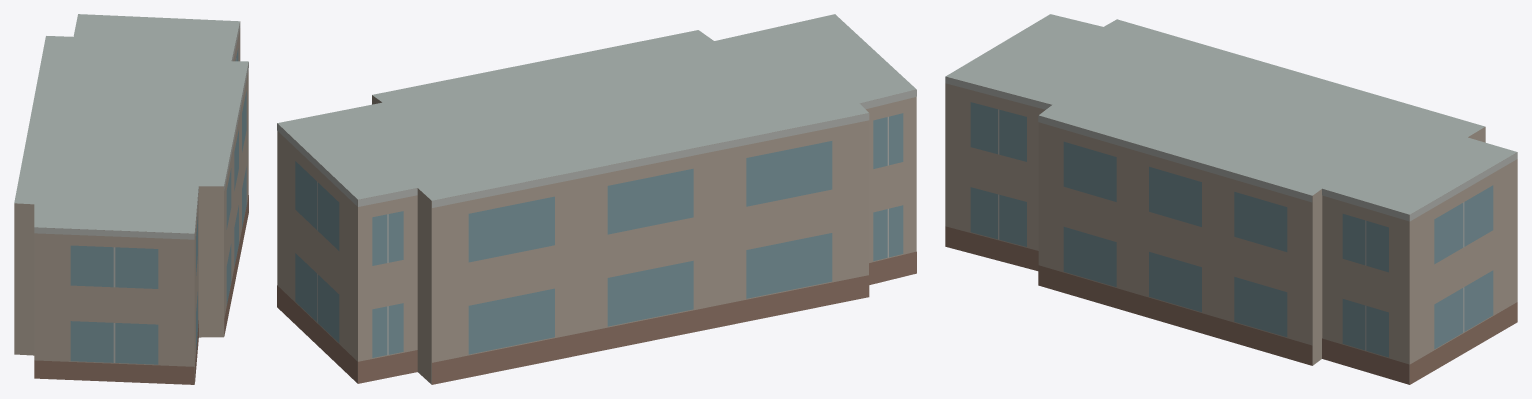
File: survey-upis-32609178.glb
3 renders of one model, left to right at view 1: azimuth 30°, elevation 25°; view 2: azimuth 150°, elevation 25°; view 3: azimuth 270°, elevation 25°, orthographic. The views are drawn at different scales.
Visible parts, largest first — view 1: survey-upis-32609178.tmp; view 2: survey-upis-32609178.tmp; view 3: survey-upis-32609178.tmp.
Boxes of the visible parts, box(x1,y1,x2,y2) form: survey-upis-32609178.tmp: box(14, 14, 248, 384); survey-upis-32609178.tmp: box(277, 14, 916, 384); survey-upis-32609178.tmp: box(945, 14, 1517, 384).
Size of the model in its own units: 15.45 by 6.1 by 18.6.
